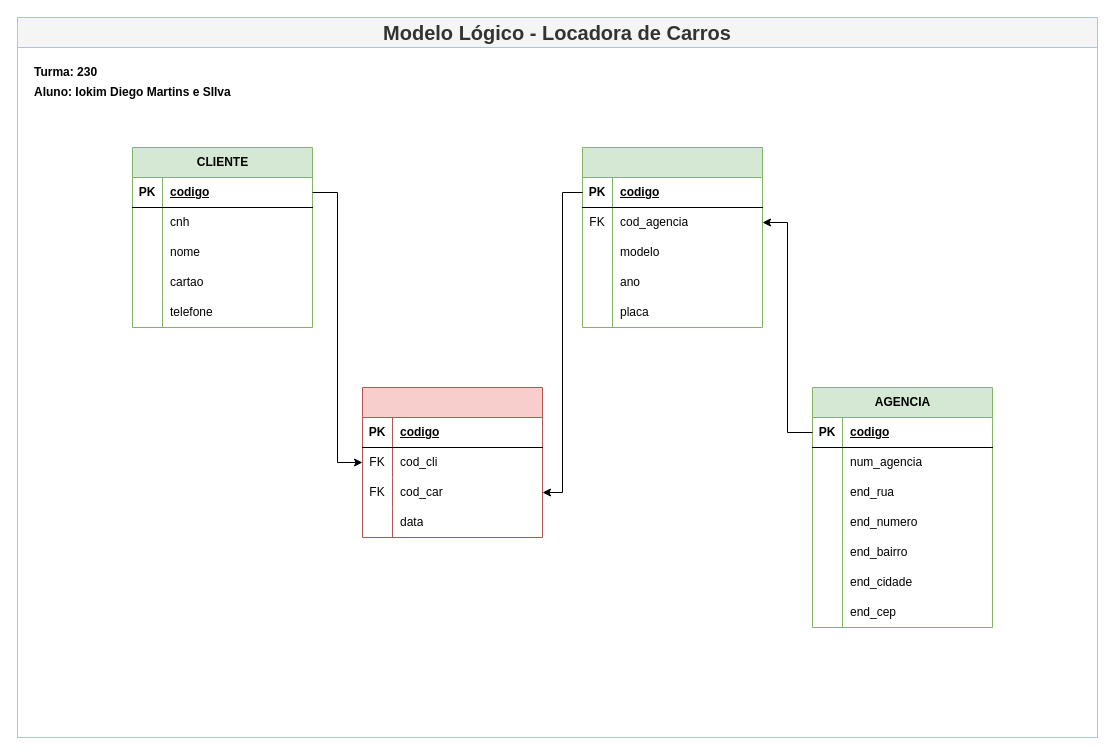
Image size: 1115x755. Some labels were removed from this diagram. The box of each missing label's shape, as (x1, y1, x2, y2) in pixels:
ALUGA: (362, 386, 542, 538)
CARRO: (582, 146, 762, 328)
